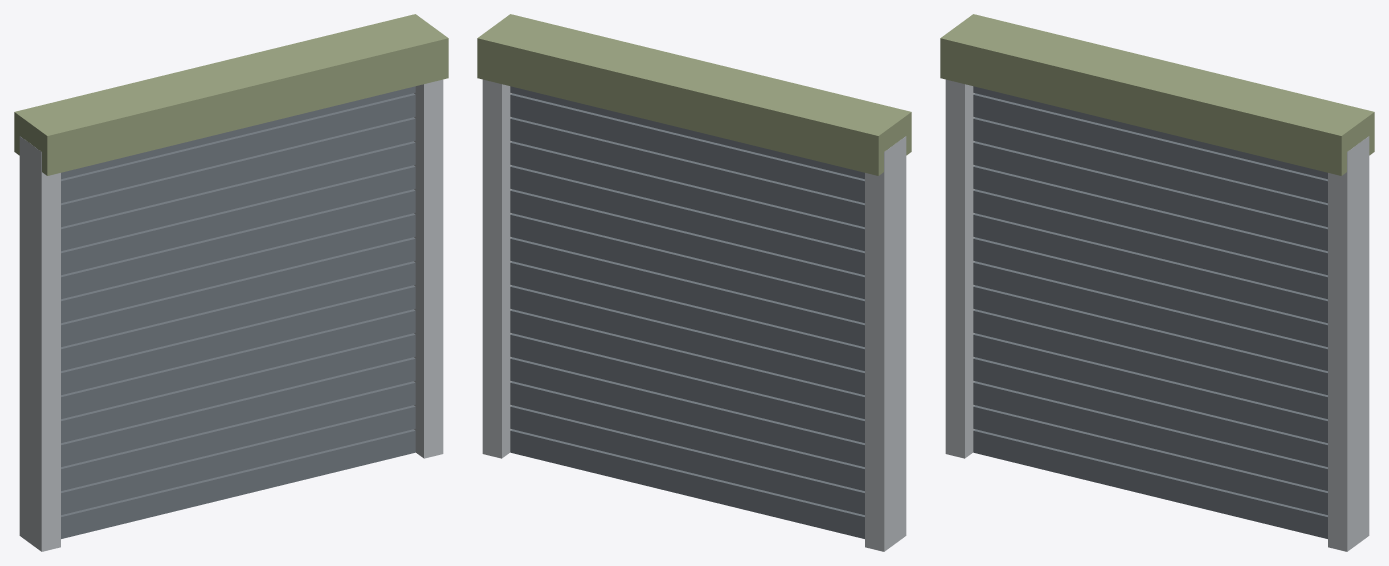
The model's file is mech-hangar-and-battle-frames-roller-door-7e9cb413__26938.glb.
The picture shows the model from 3 angles, left to right: view 1: azimuth 30°, elevation 25°; view 2: azimuth 150°, elevation 25°; view 3: azimuth 330°, elevation 25°; orthographic projection.
Parts seen in each view (by area): view 1: roller-door; view 2: roller-door; view 3: roller-door.
Boxes of the visible parts, x1=… form: roller-door: x1=14, y1=14, x2=448, y2=551; roller-door: x1=477, y1=14, x2=911, y2=551; roller-door: x1=940, y1=14, x2=1374, y2=551.
Bounding box in the file's own units: 4.2 × 4.2 × 0.5999.
